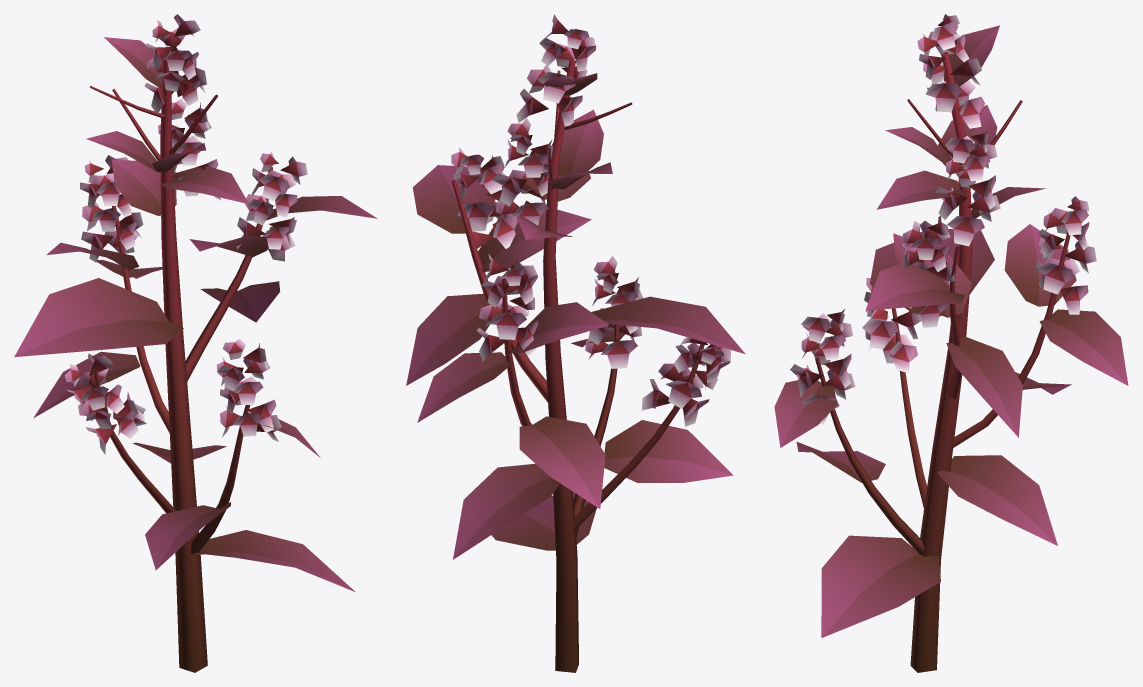
The model's file is SM_PerillaFlower_01.fbx.
3 renders of one model, left to right at view 1: azimuth 30°, elevation 25°; view 2: azimuth 150°, elevation 25°; view 3: azimuth 270°, elevation 25°, orthographic. The views are drawn at different scales.
Parts seen in each view (by area): view 1: SM_PerillaFlower_01; view 2: SM_PerillaFlower_01; view 3: SM_PerillaFlower_01.
Boxes of the visible parts, <box> form: SM_PerillaFlower_01: <box>14,14,376,672</box>; SM_PerillaFlower_01: <box>406,14,745,672</box>; SM_PerillaFlower_01: <box>774,14,1128,672</box>.
Bounding box in the file's own units: 2.14 × 3.95 × 1.96.
